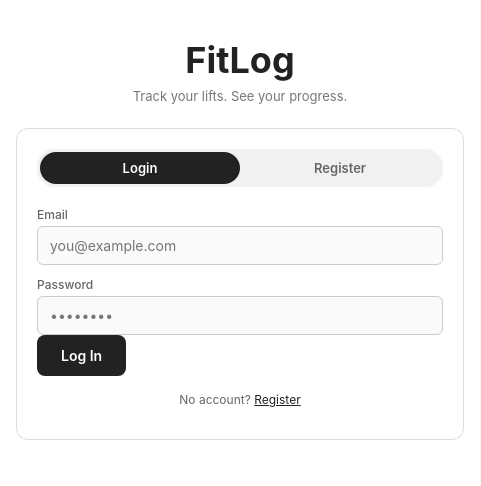
Test case: Login page › shows error if password is missing
Type "good@email.com" into the field with placeholder "you@example.com" at (240, 246), box [37,226,443,265]
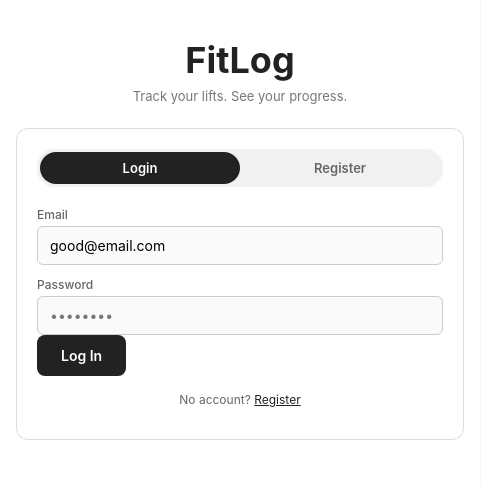
Click the button "Log In" at (82, 356), box [37,335,126,376]
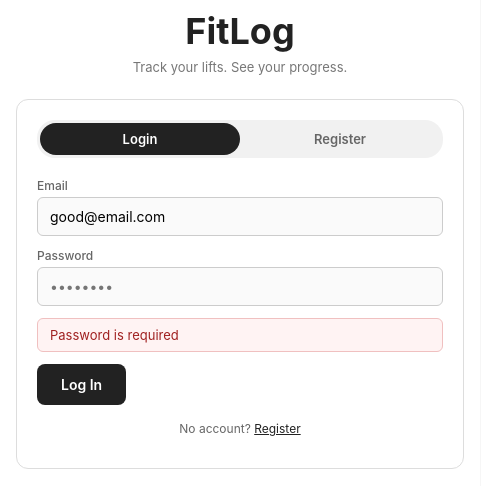
Expected: the text "Password is required" is shown, [37,318,443,352]
